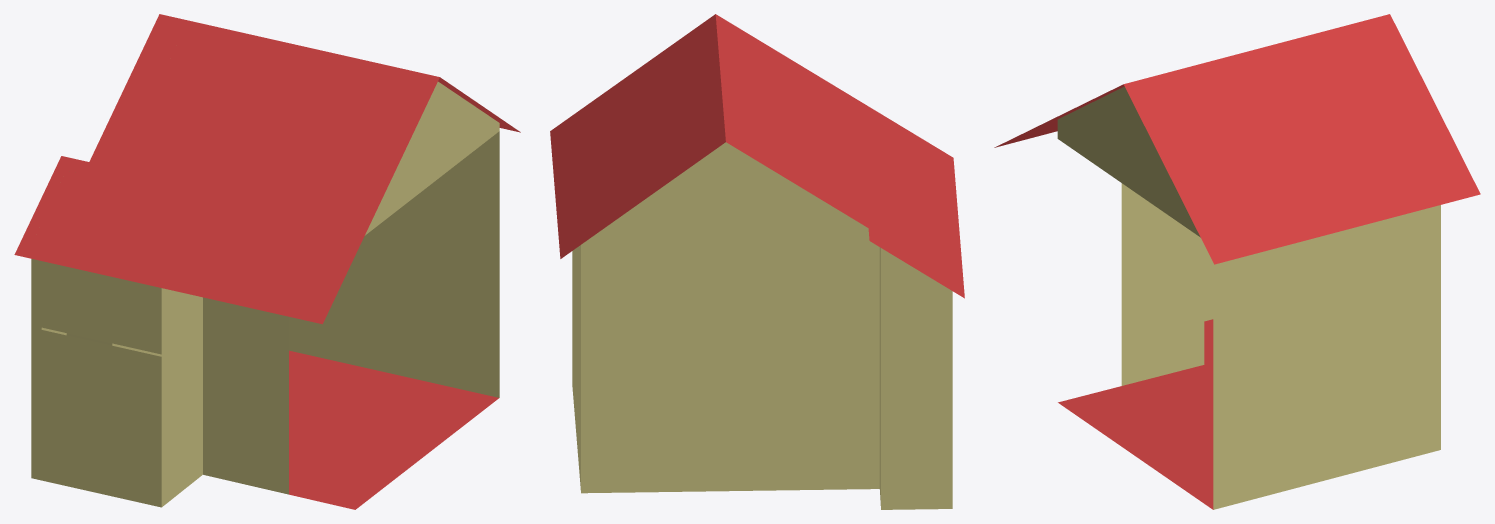
3 views of the same model, side by side, from view 1: azimuth 30°, elevation 25°; view 2: azimuth 150°, elevation 25°; view 3: azimuth 270°, elevation 25° (orthographic). The views are drawn at different scales.
Bounding box in the file's own units: 21.74 × 19.73 × 16.75.
